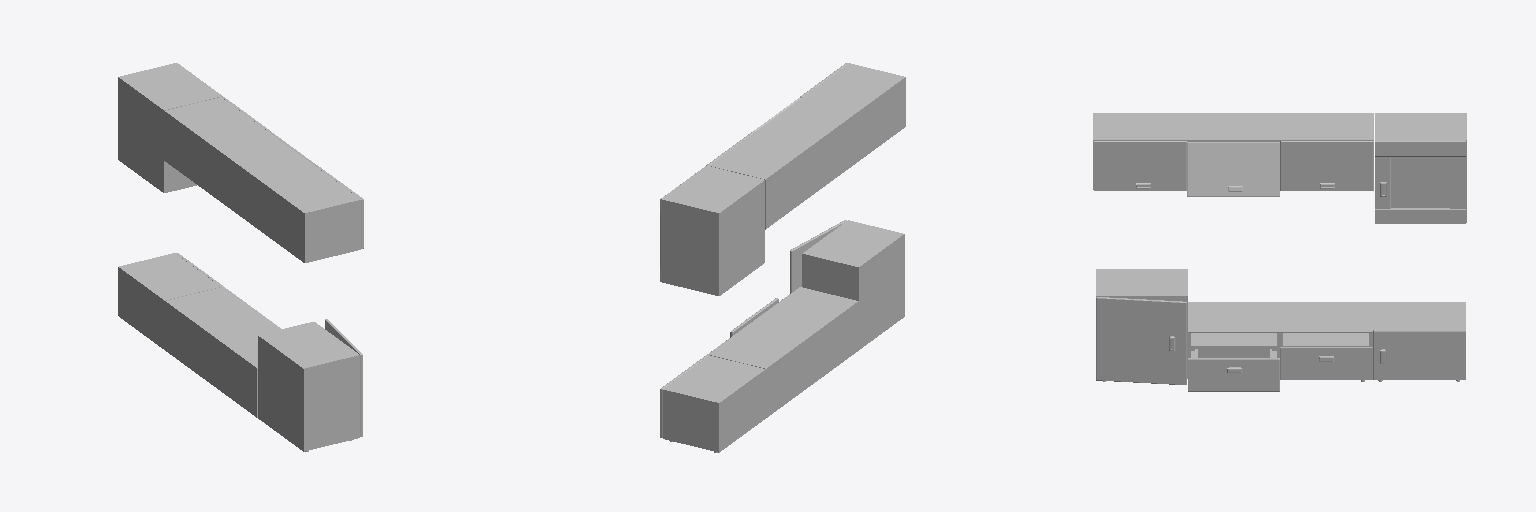
The model's file is TV Furniture.obj.
The picture shows the model from 3 angles: view 1: azimuth 30°, elevation 25°; view 2: azimuth 150°, elevation 25°; view 3: azimuth 270°, elevation 25°; orthographic projection.
Parts seen in each view (by area): view 1: Box001, Box005, Box003, Box002, Box004, Box009; view 2: Box001, Box002, Box003, Box005, Box004, Box009; view 3: Box003, Box001, Box009, Box007, Box008, Box006, Box010, Box012, Box017, Box011, Box005, Box004 (+5 smaller).
Part boxes in pixels (bbox=[...]): Box001: bbox=[164, 97, 360, 262]; Box005: bbox=[258, 322, 359, 451]; Box003: bbox=[165, 287, 280, 417]; Box002: bbox=[118, 63, 219, 192]; Box004: bbox=[118, 253, 220, 349]; Box009: bbox=[325, 319, 362, 436]; Box001: bbox=[709, 63, 905, 229]; Box002: bbox=[663, 166, 764, 295]; Box003: bbox=[707, 287, 858, 417]; Box005: bbox=[802, 220, 904, 349]; Box004: bbox=[663, 355, 765, 452]; Box009: bbox=[790, 220, 846, 293]; Box003: bbox=[1188, 302, 1372, 357]; Box001: bbox=[1093, 113, 1373, 189]; Box009: bbox=[1096, 297, 1186, 384]; Box007: bbox=[1187, 142, 1279, 196]; Box008: bbox=[1280, 141, 1373, 190]; Box006: bbox=[1094, 141, 1186, 190]; Box010: bbox=[1373, 330, 1465, 379]; Box012: bbox=[1188, 349, 1279, 391]; Box017: bbox=[1391, 157, 1449, 207]; Box011: bbox=[1280, 347, 1372, 379]; Box005: bbox=[1096, 269, 1187, 378]; Box004: bbox=[1373, 302, 1465, 330].
Size of the model in its own units: 26.07 by 68.01 by 94.46.